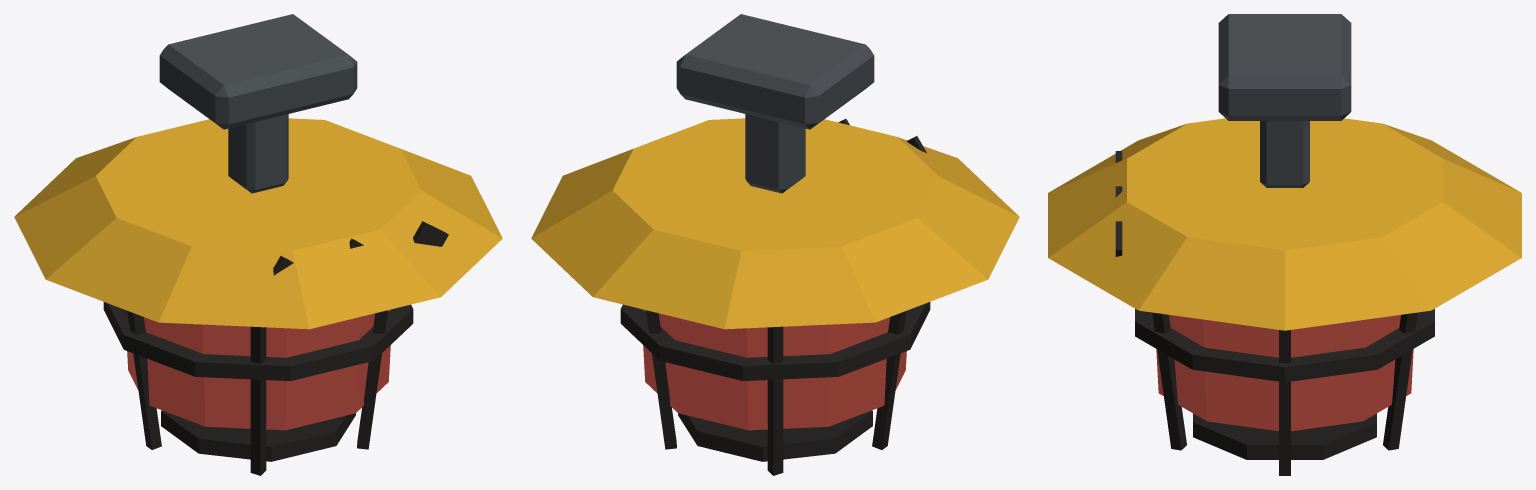
File: lamp_ceiling_avariynaya_idle.glb
The picture shows the model from 3 angles, left to right: view 1: azimuth 30°, elevation 25°; view 2: azimuth 150°, elevation 25°; view 3: azimuth 270°, elevation 25°; orthographic projection.
Visible parts, largest first — view 1: lamp_ceiling_avariynaya_idle; view 2: lamp_ceiling_avariynaya_idle; view 3: lamp_ceiling_avariynaya_idle.
Boxes of the visible parts, left/top/right/bottom form: lamp_ceiling_avariynaya_idle: left=14, top=14, right=502, bottom=475; lamp_ceiling_avariynaya_idle: left=531, top=14, right=1019, bottom=475; lamp_ceiling_avariynaya_idle: left=1048, top=14, right=1521, bottom=475.
Size of the model in its own units: 0.3 by 0.2507 by 0.2853.
Materials: 2 (2 with a texture image).
